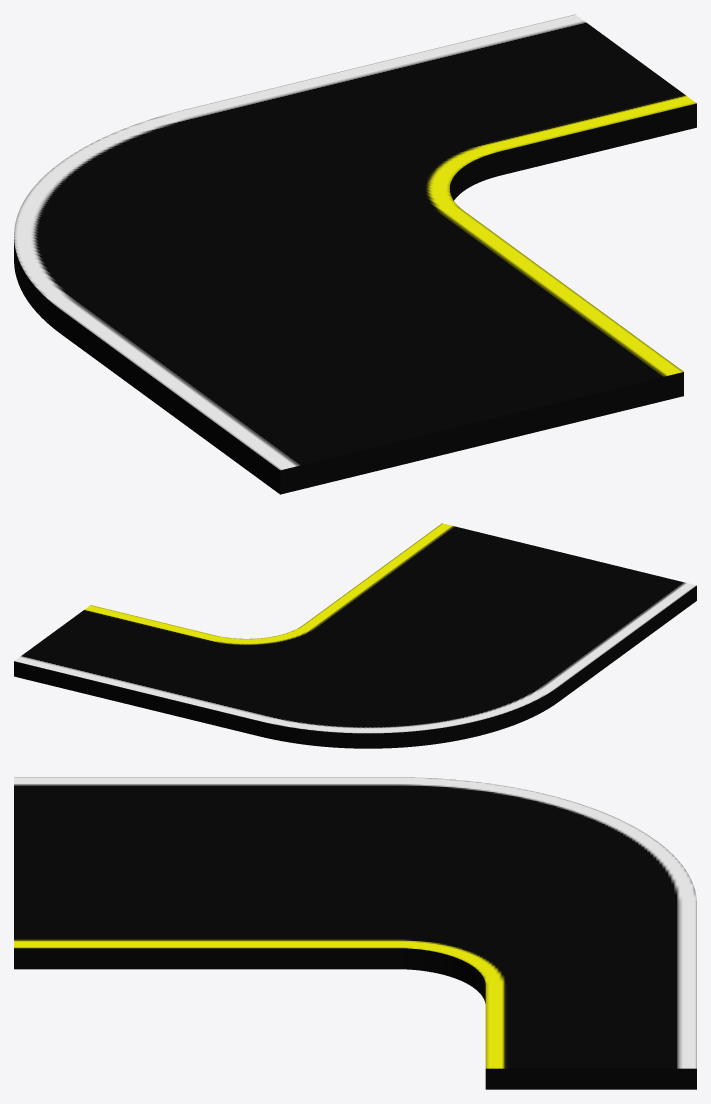
Rendered from Panel_R03_C01__Road_00.dae.
3 views of the same model, one above another, from view 1: azimuth 30°, elevation 25°; view 2: azimuth 150°, elevation 25°; view 3: azimuth 270°, elevation 25° (orthographic). The views are drawn at different scales.
Visible parts, largest first — view 1: Object; view 2: Object; view 3: Object.
Part boxes in pixels (x1,y1,x2,y2): Object: (14,14,696,494); Object: (14,523,696,748); Object: (14,777,696,1089).
Bounding box in the file's own units: 0.8918 × 0.8828 × 0.03.
2 materials, 1 textured.
